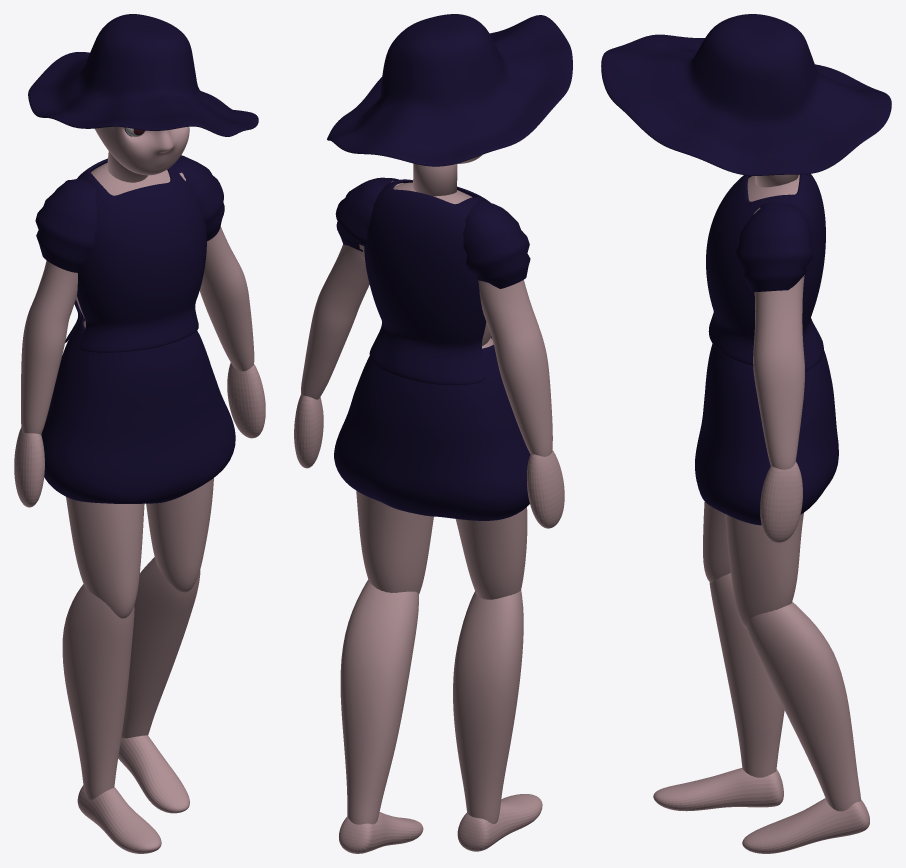
File: SeatedNPC.2.fbx
3 renders of one model, left to right at view 1: azimuth 30°, elevation 25°; view 2: azimuth 150°, elevation 25°; view 3: azimuth 270°, elevation 25°, orthographic. The views are drawn at different scales.
Visible parts, largest first — view 1: upperBody.001, Pants2, shirt, hat2, Sphere.003, head.001; view 2: upperBody.001, hat2, Pants2, shirt, Sphere.003; view 3: upperBody.001, hat2, Pants2, shirt, Sphere.003.
Boxes of the visible parts, x1,y1,x2,y2 form: upperBody.001: [14, 151, 265, 853]; Pants2: [41, 316, 235, 503]; shirt: [65, 158, 206, 352]; hat2: [28, 14, 258, 136]; Sphere.003: [35, 155, 224, 272]; head.001: [95, 126, 189, 175]; upperBody.001: [294, 163, 564, 853]; hat2: [327, 14, 572, 166]; Pants2: [334, 336, 530, 520]; shirt: [364, 179, 490, 385]; Sphere.003: [335, 177, 530, 288]; upperBody.001: [653, 174, 869, 853]; hat2: [601, 14, 891, 175]; Pants2: [695, 344, 838, 525]; shirt: [706, 174, 825, 371]; Sphere.003: [736, 176, 813, 291].
Bounding box in the file's own units: 224 × 683 × 223.
